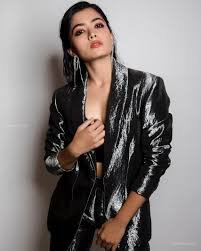noMask: (55, 3, 129, 72)
